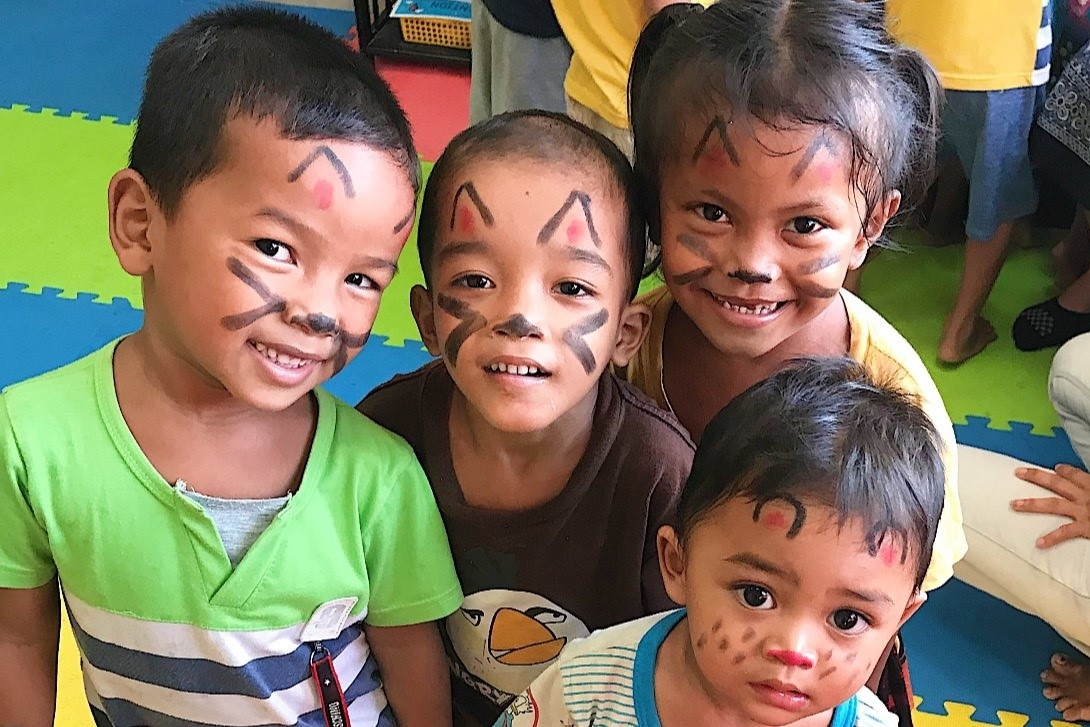face_no_mask: (106, 14, 417, 412), (653, 368, 943, 726), (643, 0, 910, 359), (412, 111, 650, 433)
